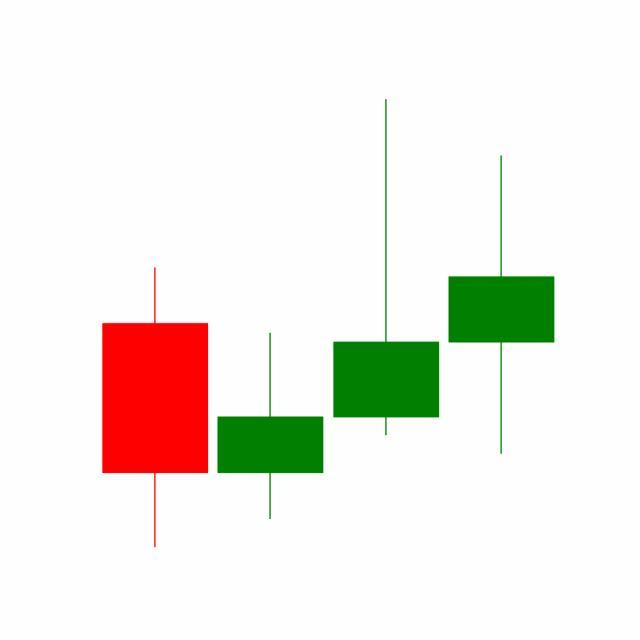Spinning Top: (444, 153, 560, 459)
